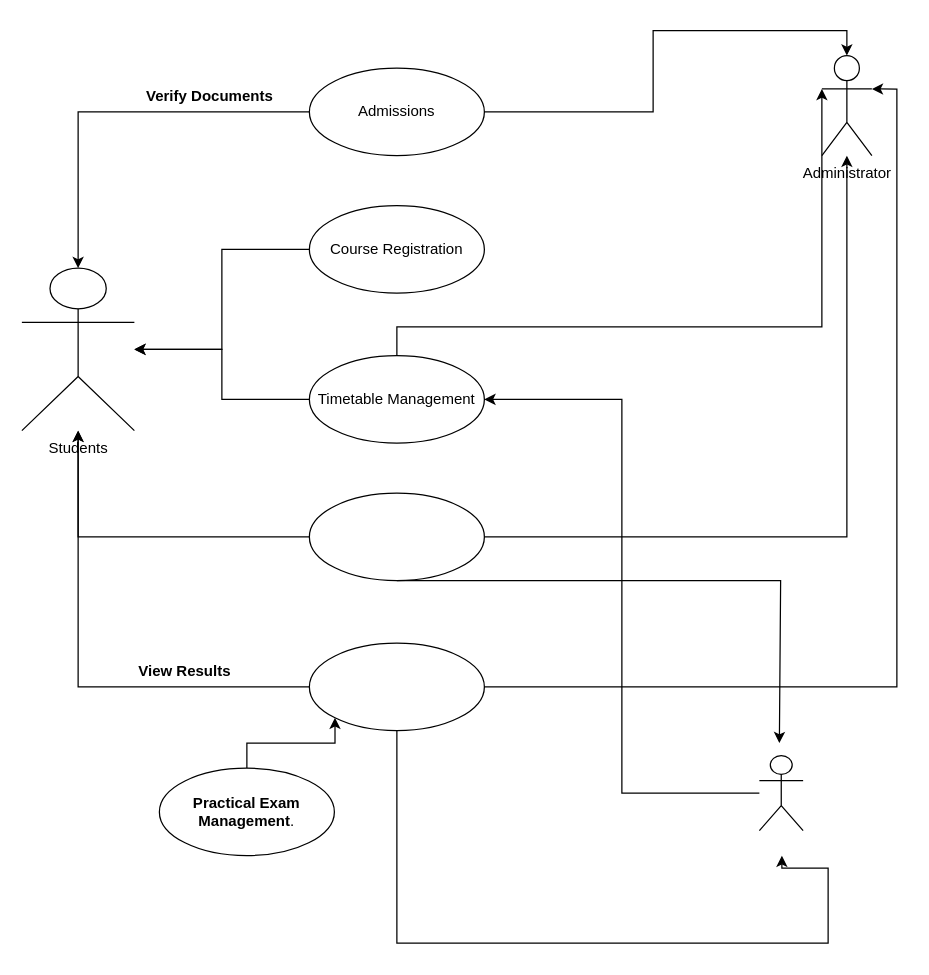
The diagram is 929 pixels wide and 975 high, and some of its shapes have lost their labels. Each missing label, with the centre of its shape:
Exam Management: the point at 396,686
Faculty: the point at 780,792
Syllabus Access: the point at 396,536
